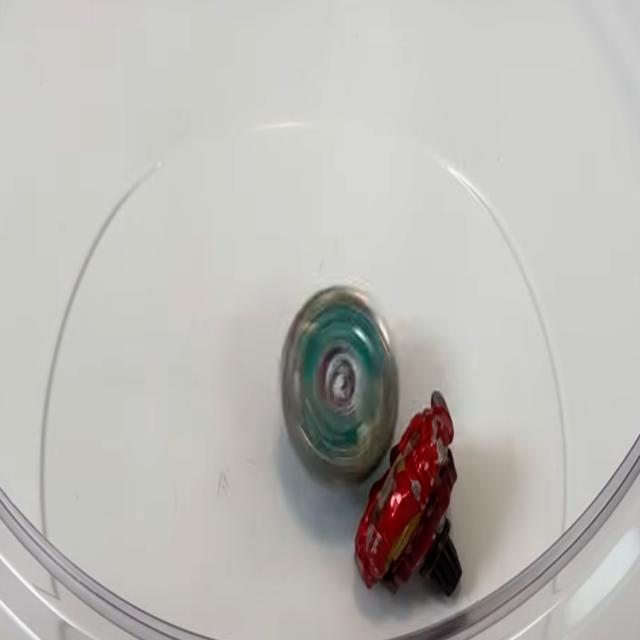Beyblade: (278, 286, 400, 485), (353, 393, 461, 598)
